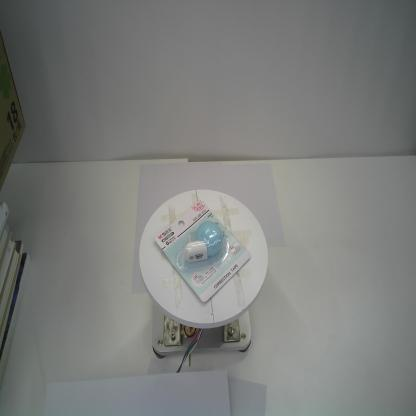Stationery: (154, 199, 251, 303)
